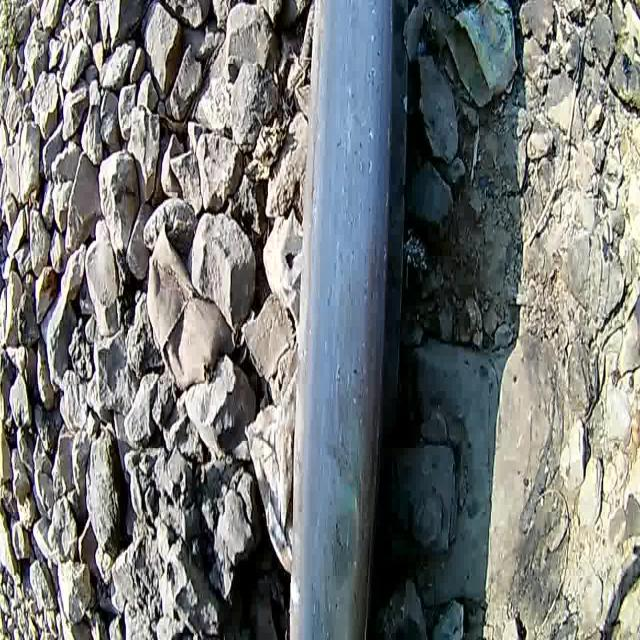Squats: (276, 3, 411, 640)
